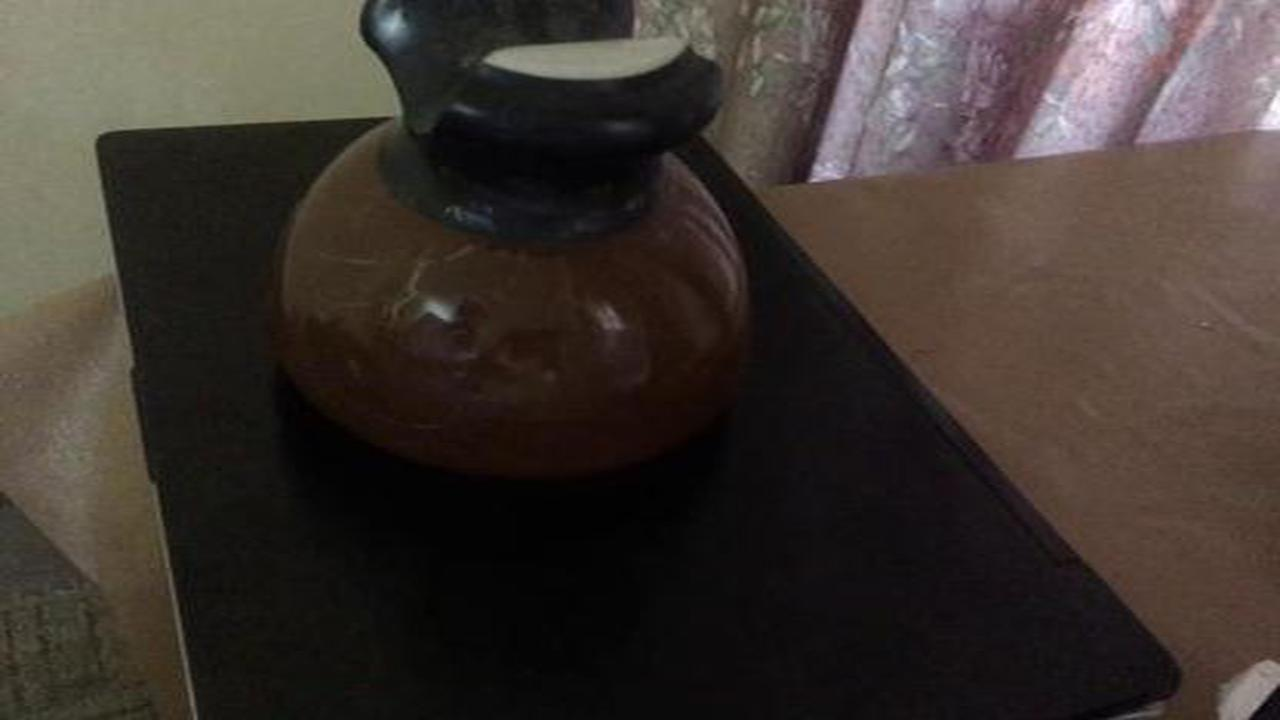insulator_pin: (241, 5, 770, 492)
